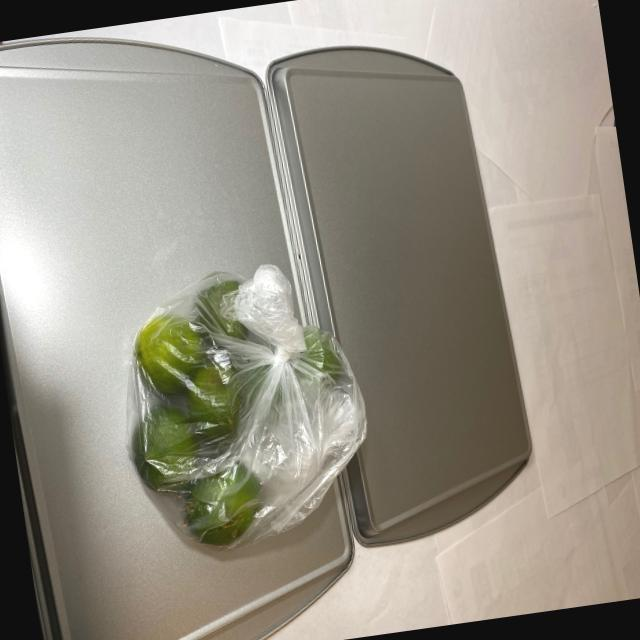lemon: (116, 262, 371, 569)
